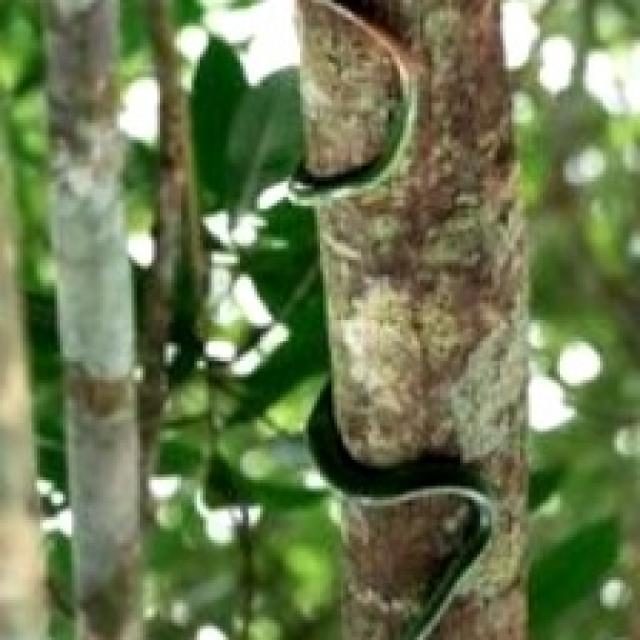red-tailed green ratsnake: (308, 384, 495, 639), (289, 0, 425, 206)
